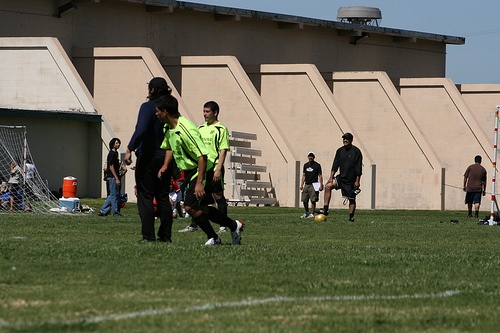head: (144, 75, 175, 100), (155, 95, 180, 125), (198, 97, 223, 127), (339, 130, 356, 150), (107, 136, 123, 151), (304, 150, 318, 164), (473, 153, 483, 168)
person: (120, 77, 177, 242), (152, 97, 205, 243), (190, 99, 242, 242), (315, 130, 361, 220), (97, 137, 124, 215), (299, 151, 322, 217), (462, 154, 485, 217), (4, 159, 30, 211), (488, 156, 498, 221), (168, 175, 182, 218), (23, 156, 36, 184)
